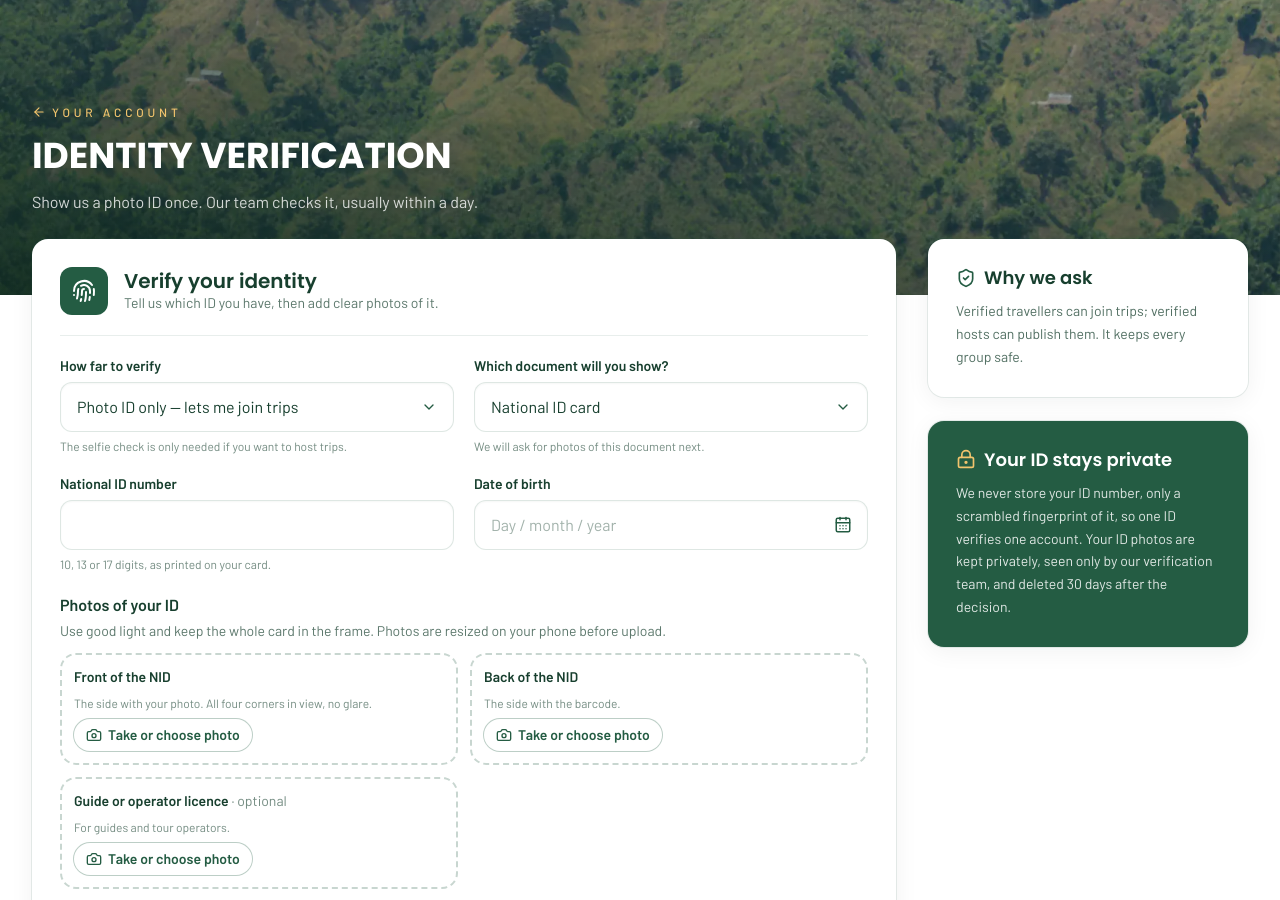
VerificationPage › keeps letters out of the national ID number
The width and height of the screenshot is (1280, 900).
Type "12wert34" into the field labelled "National ID number" at (257, 525), box x1=60 y1=500 x2=454 y2=550
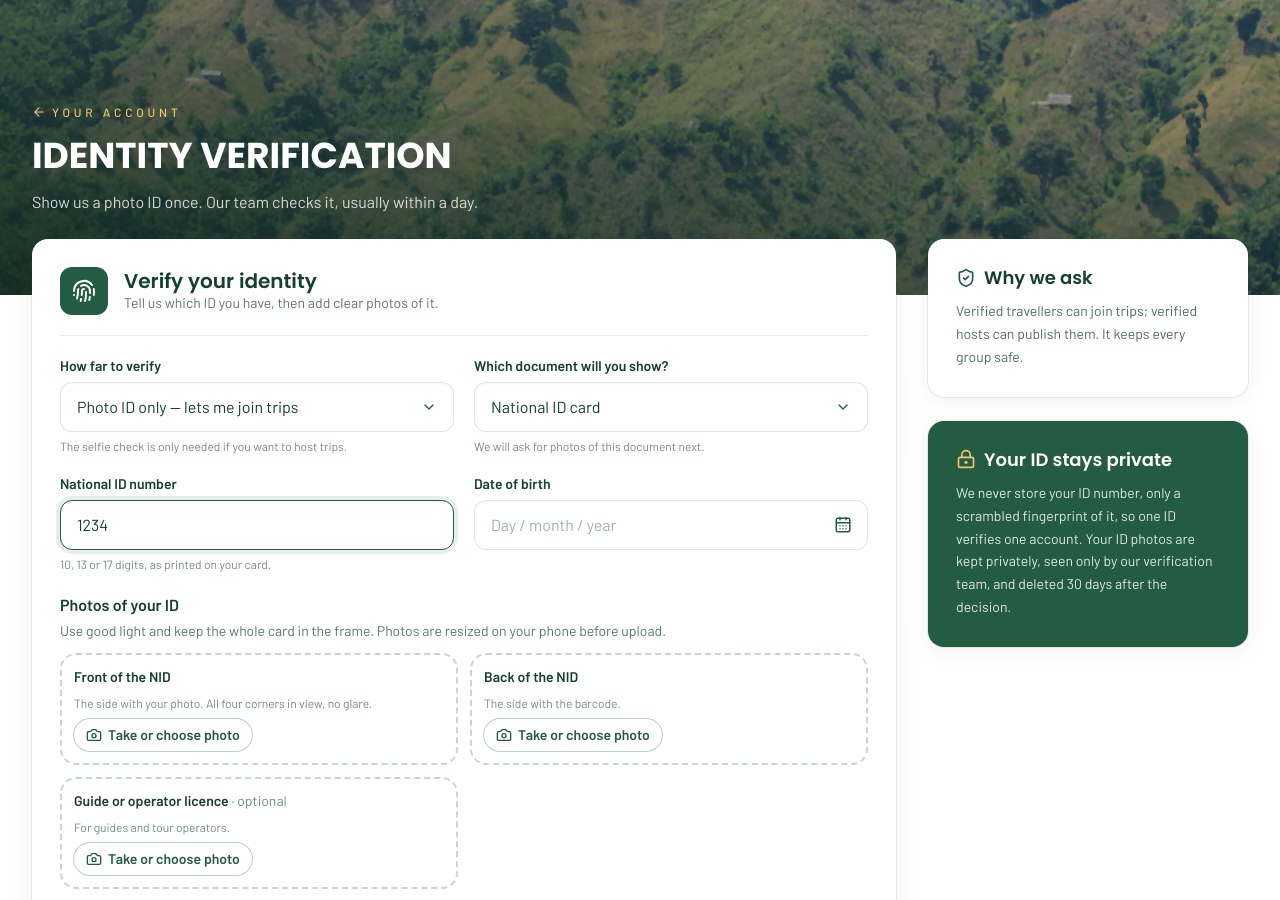
Expected: the field labelled "National ID number" holds "1234", x1=60 y1=500 x2=454 y2=550
